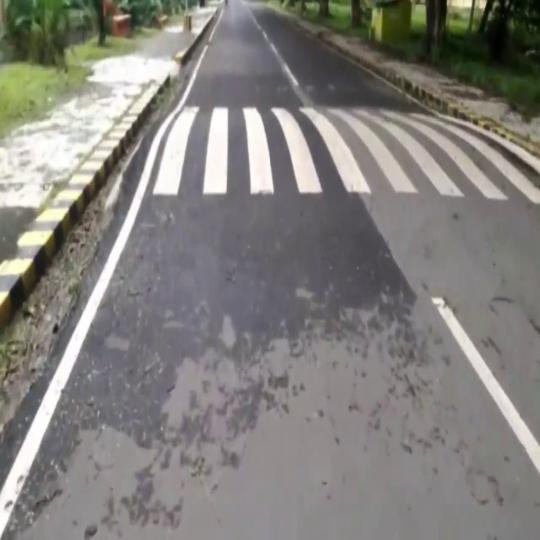Speed Bump: (125, 106, 540, 199)
